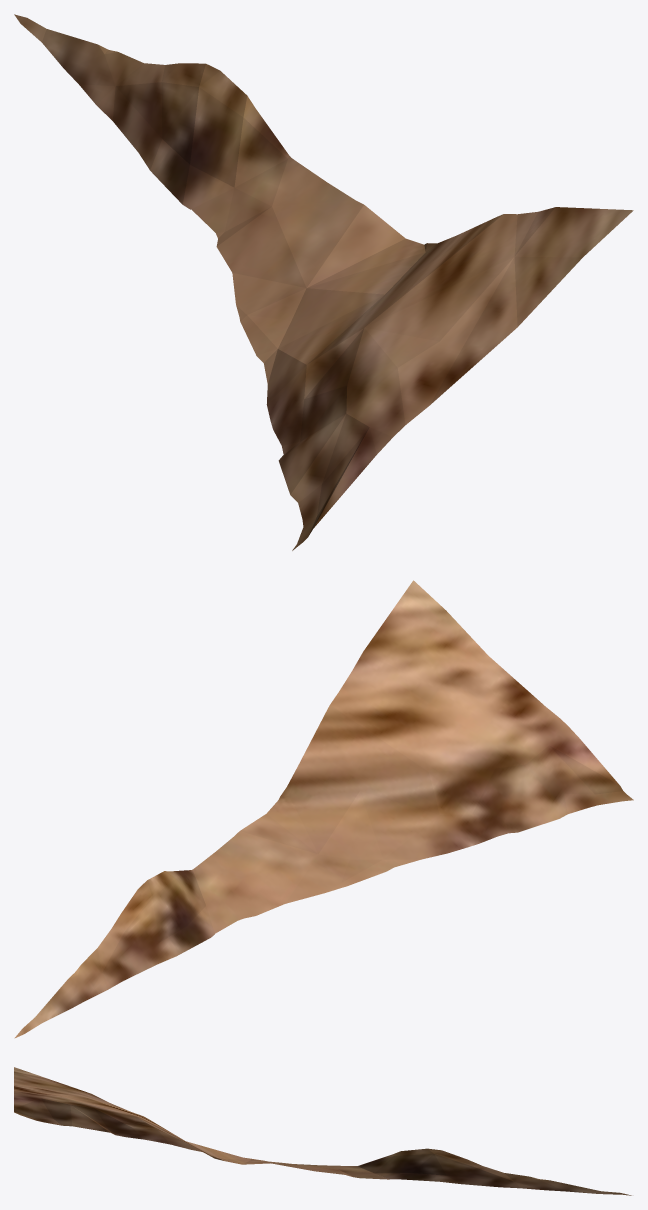
3 views of the same model, one above another, from view 1: azimuth 30°, elevation 25°; view 2: azimuth 150°, elevation 25°; view 3: azimuth 270°, elevation 25° (orthographic). The views are drawn at different scales.
Size of the model in its own units: 0.2019 by 0.1454 by 0.6333.
Materials: 1 (1 with a texture image).
